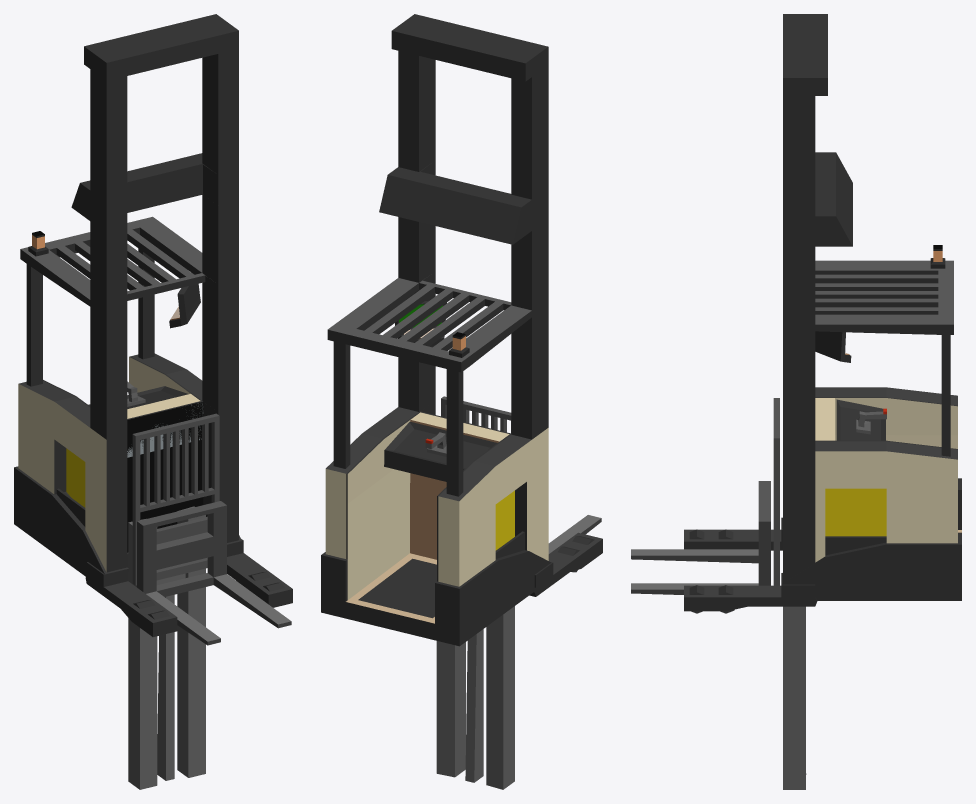
Rendered from ProtoReach_EMPTY-2026.fbx.
3 renders of one model, left to right at view 1: azimuth 30°, elevation 25°; view 2: azimuth 150°, elevation 25°; view 3: azimuth 270°, elevation 25°, orthographic. The views are drawn at different scales.
Parts seen in each view (by area): view 1: ReachChassis, Forks, Mast; view 2: ReachChassis, Mast, Forks; view 3: ReachChassis, Forks, Mast.
Part boxes in pixels (x1,y1,x2,y2): ReachChassis: (14, 14, 292, 636); Forks: (132, 413, 291, 645); Mast: (128, 506, 205, 789); ReachChassis: (321, 14, 602, 646); Mast: (436, 606, 514, 789); Forks: (441, 396, 601, 553); ReachChassis: (684, 14, 961, 613); Forks: (631, 398, 779, 594); Mast: (783, 606, 806, 789).
Size of the model in its own units: 1.1 by 2.27 by 5.52.
